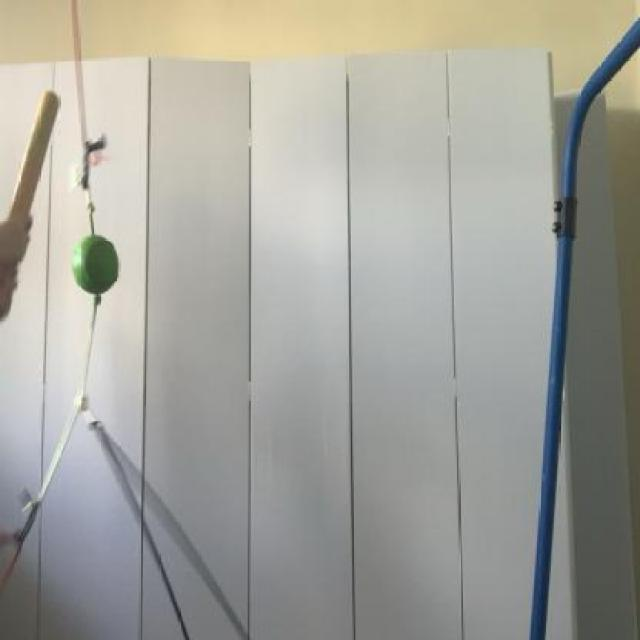baseball: (65, 229, 124, 297)
